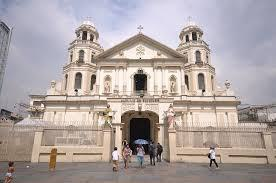quiapo_church_quiapo_manila: (31, 12, 240, 164)
